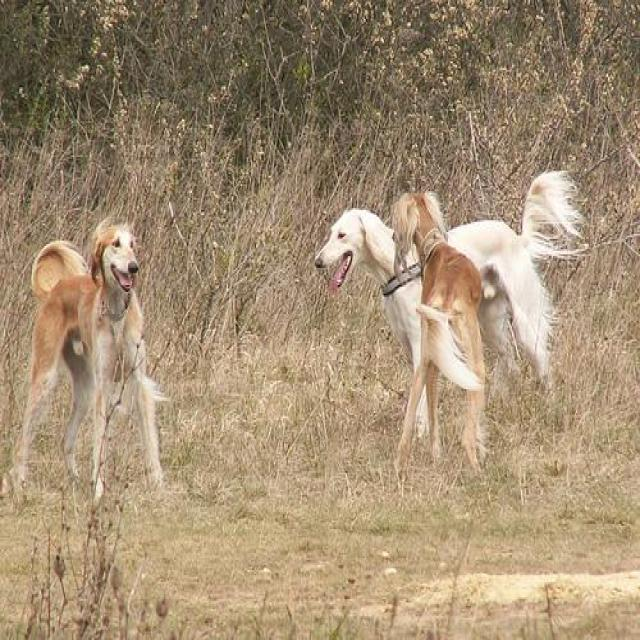saluki: (315, 169, 585, 435), (13, 220, 164, 495), (389, 189, 485, 483)
